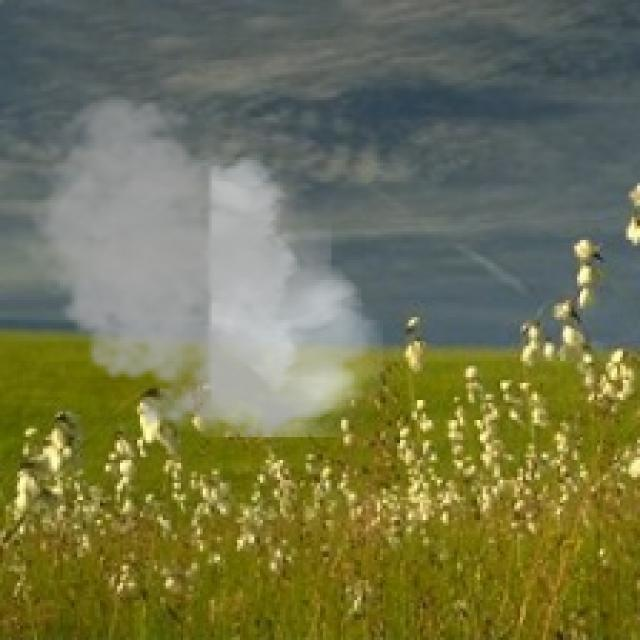smoke: (17, 89, 383, 452)
